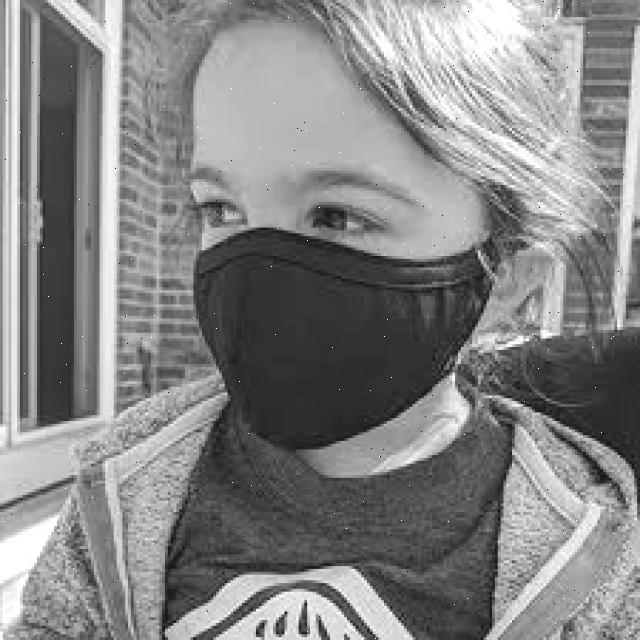fake: (188, 202, 496, 460)
real: (179, 22, 491, 465)
